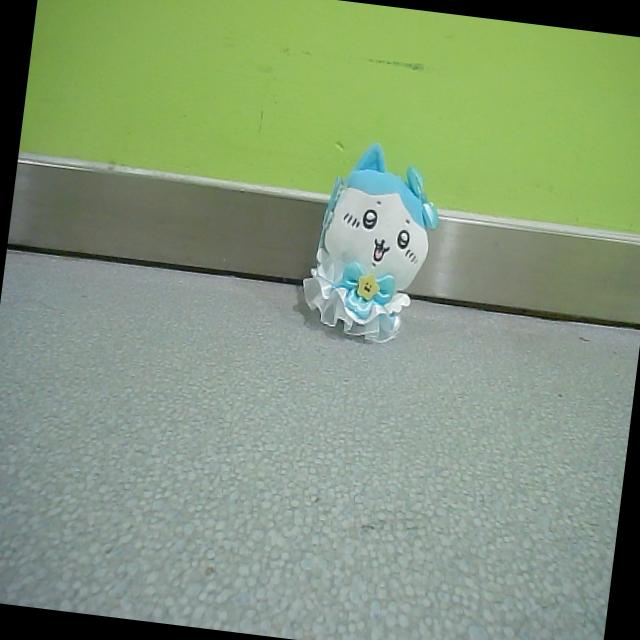xiaoba: (296, 138, 446, 352)
